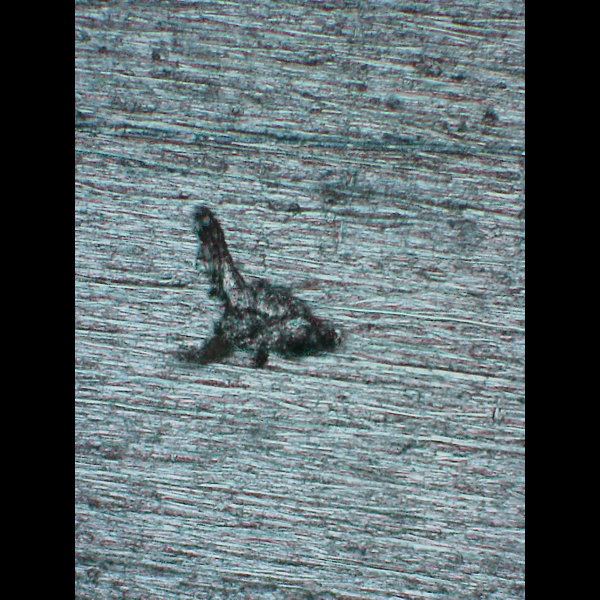d: (161, 200, 348, 377)
